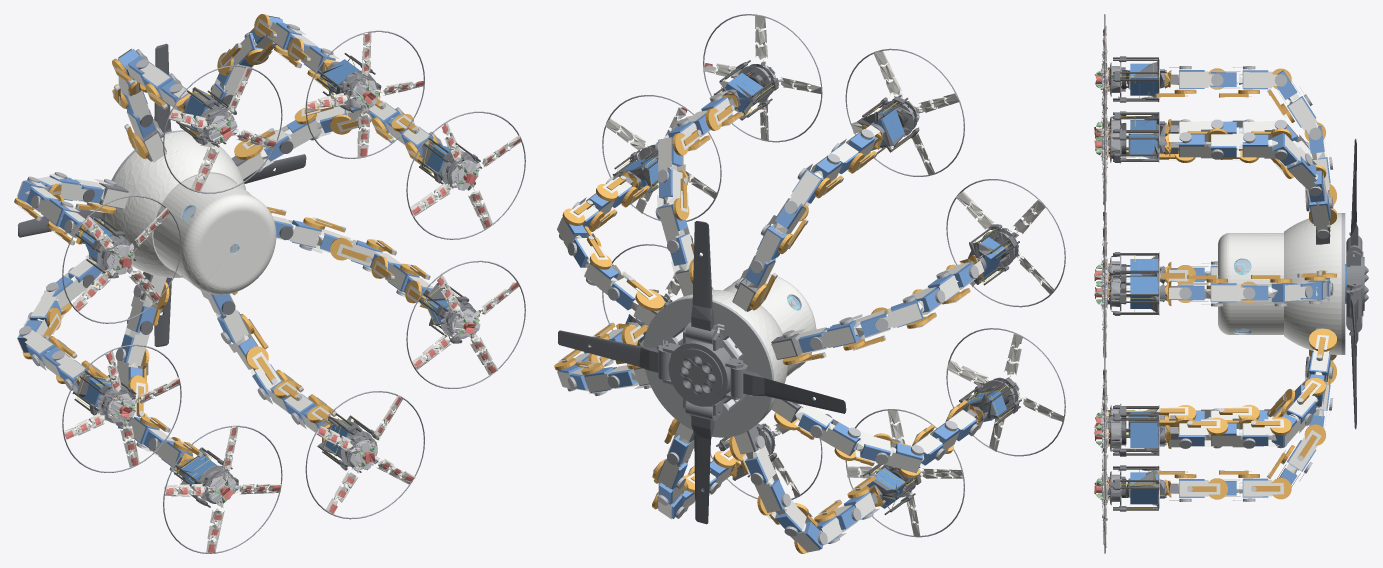
File: cephalo2_all_flight.glb
3 renders of one model, left to right at view 1: azimuth 30°, elevation 25°; view 2: azimuth 150°, elevation 25°; view 3: azimuth 270°, elevation 25°, orthographic. The views are drawn at different scales.
Parts seen in each view (by area): view 1: arms and hands|c0, turret shell|shell, arms and hands|c22, arms and hands|c7, arms and hands|c3, arms and hands|c23, arms and hands|c17, arms and hands|c4, arms and hands|c16, arms and hands|c13, belly rotor|blades, arms and hands|c12 (+8 smaller); view 2: arms and hands|c0, arms and hands|c7, arms and hands|c22, belly rotor|blades, body|plate, arms and hands|c3, arms and hands|c6, arms and hands|c23, belly rotor|hub, turret shell|shell, arms and hands|c13, arms and hands|c4 (+8 smaller); view 3: arms and hands|c0, turret shell|shell, arms and hands|c7, arms and hands|c3, arms and hands|c12, arms and hands|c13, arms and hands|c4, arms and hands|c11, arms and hands|c6, arms and hands|c22, arms and hands|c21, belly rotor|blades (+15 smaller).
Part boxes in pixels (x1,y1,x2,y2): arms and hands|c0: (17,15,442,475); turret shell|shell: (105,131,276,294); arms and hands|c22: (64,31,520,553); arms and hands|c7: (17,16,433,468); arms and hands|c3: (14,14,421,452); arms and hands|c23: (62,30,525,553); arms and hands|c17: (64,33,520,552); arms and hands|c4: (22,22,430,455); arms and hands|c16: (105,78,480,507); arms and hands|c13: (72,58,478,505); belly rotor|blades: (18,43,306,346); arms and hands|c12: (81,59,453,486); arms and hands|c0: (557,90,984,552); arms and hands|c7: (558,96,976,549); arms and hands|c22: (605,15,1063,536); belly rotor|blades: (558,221,846,524); body|plate: (643,297,773,437); arms and hands|c3: (554,108,962,553); arms and hands|c6: (559,93,978,545); arms and hands|c23: (602,14,1065,537); belly rotor|hub: (662,326,743,417); turret shell|shell: (670,274,816,424); arms and hands|c13: (612,62,1019,511); arms and hands|c4: (561,105,970,526); arms and hands|c0: (1169,67,1330,500); turret shell|shell: (1218,213,1341,354); arms and hands|c7: (1179,70,1330,497); arms and hands|c3: (1174,68,1336,499); arms and hands|c12: (1130,63,1158,504); arms and hands|c13: (1107,56,1159,511); arms and hands|c4: (1156,90,1325,491); arms and hands|c11: (1113,57,1158,510); arms and hands|c6: (1179,66,1333,501); arms and hands|c22: (1101,26,1108,547); arms and hands|c21: (1110,62,1121,506); belly rotor|blades: (1350,138,1358,429).
Bounding box in the file's own units: 0.8962 × 0.8962 × 0.4821.
